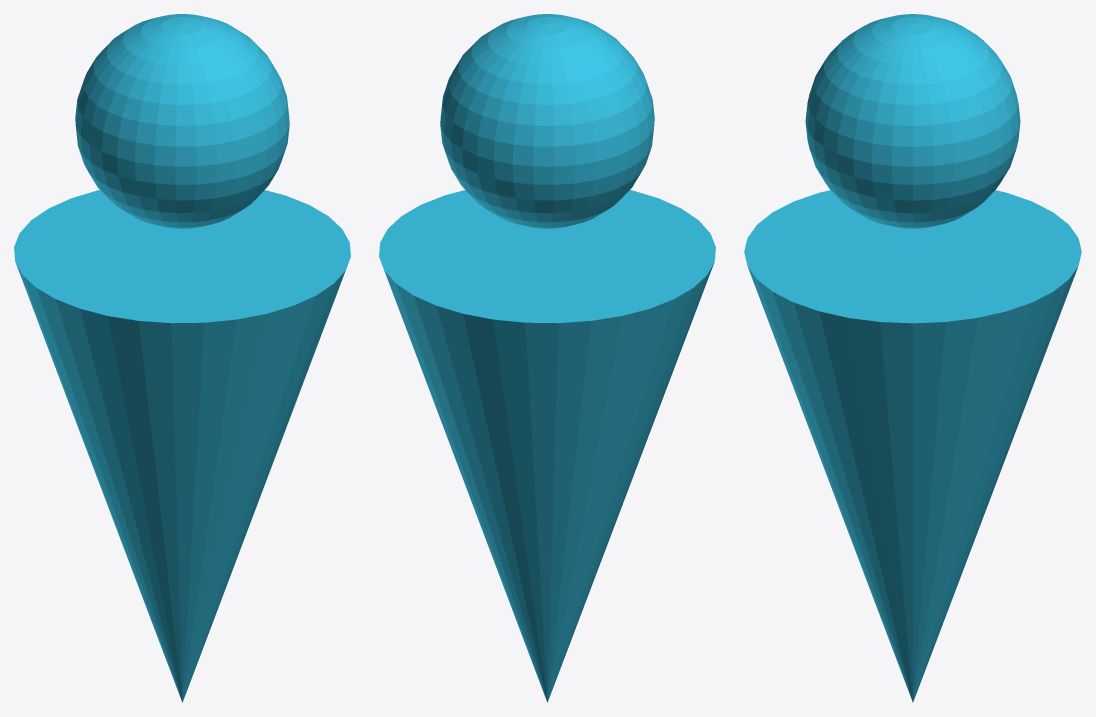
Rendered from Player_Model.fbx.
3 views of the same model, side by side, from view 1: azimuth 30°, elevation 25°; view 2: azimuth 150°, elevation 25°; view 3: azimuth 270°, elevation 25° (orthographic).
Parts seen in each view (by area): view 1: Person; view 2: Person; view 3: Person.
Boxes of the visible parts, x1,y1,x2,y2 form: Person: (14, 14, 350, 702); Person: (379, 14, 715, 702); Person: (744, 14, 1081, 702).
Size of the model in its own units: 85.91 by 191 by 85.91.
